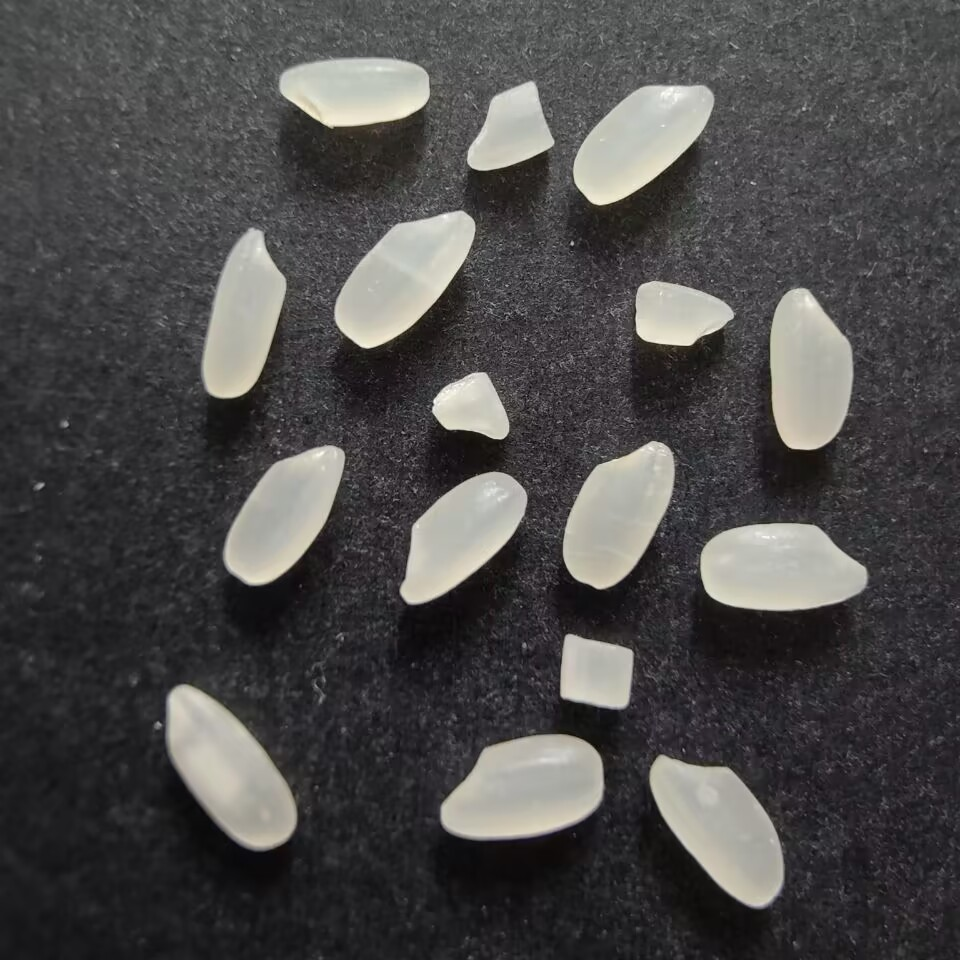broken: (462, 76, 557, 174), (628, 276, 736, 352), (555, 629, 638, 715), (424, 367, 514, 445)
rice: (156, 682, 305, 853), (642, 751, 788, 913), (331, 207, 478, 353), (438, 728, 607, 846), (393, 468, 532, 610), (568, 79, 720, 207), (221, 438, 344, 590), (561, 435, 677, 592), (695, 518, 871, 611), (199, 225, 291, 402), (766, 285, 859, 454), (271, 53, 434, 133)
